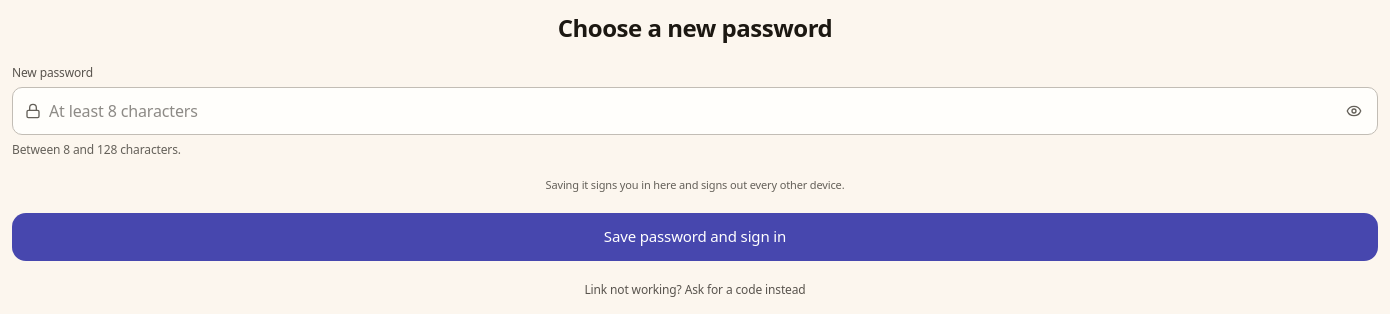
Test case: ResetLinkView › shows the dead link, with a way to a new code, when the server says so
The image size is (1390, 314).
Step 1. Type "LedgerFlow!2027" into the password field labelled "New password" → (707, 111), box x1=49 y1=100 x2=1365 y2=123
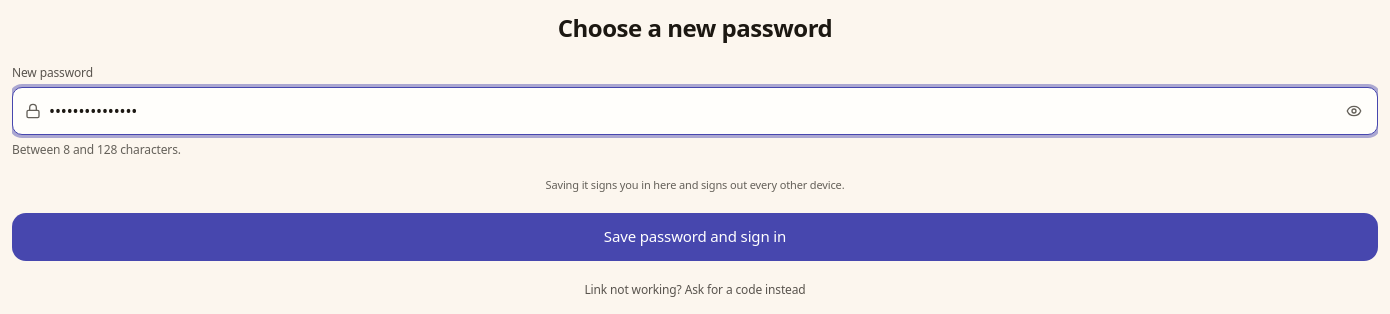
Step 2. Click the button named "Save password and sign in" → (695, 237), box x1=12 y1=213 x2=1378 y2=261
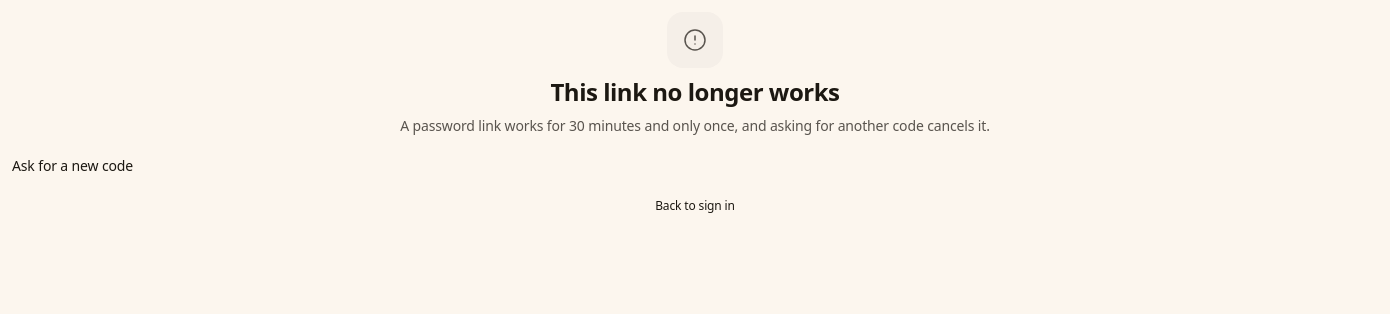
Check: the heading "This link no longer works" is shown, box x1=550 y1=75 x2=840 y2=108
